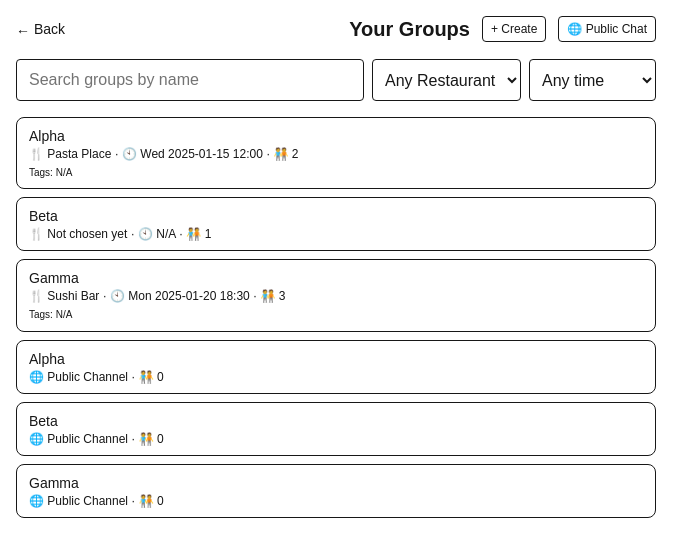
Scenario: GroupListPage › filters by restaurant
Select "Pasta Place" in the 1st dropdown showing "Any Restaurant" at x=446, y=80, box [372,59,521,101]
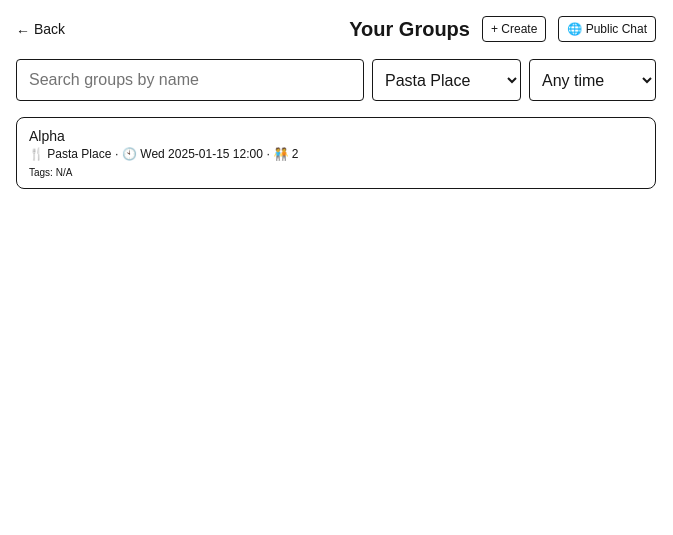
Expected: the text "Alpha" is shown, [29,128,65,144]
Expected: the link "Beta" is gone
